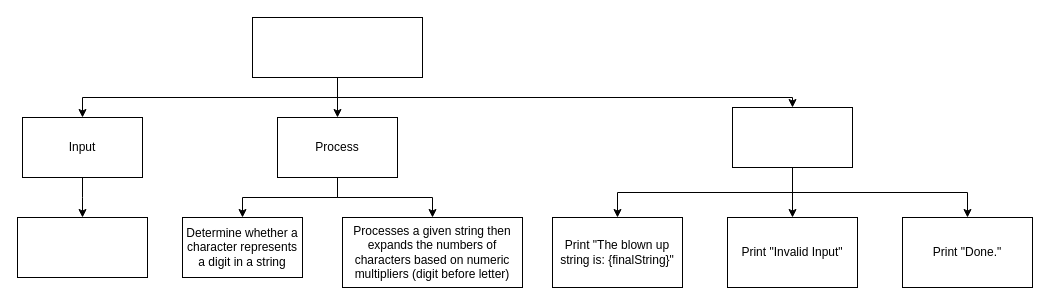
The diagram is 1050 pixels wide and 305 high, and some of its shapes have lost their labels. The shapes that lost their labels are listed below. From the top down, each one's box as (x1, y1, x2, y2) in pixels, then its label:
(252, 16, 422, 78): String blow up
(732, 106, 852, 168): Output
(16, 216, 148, 278): User inputs a string of letters and numbers
